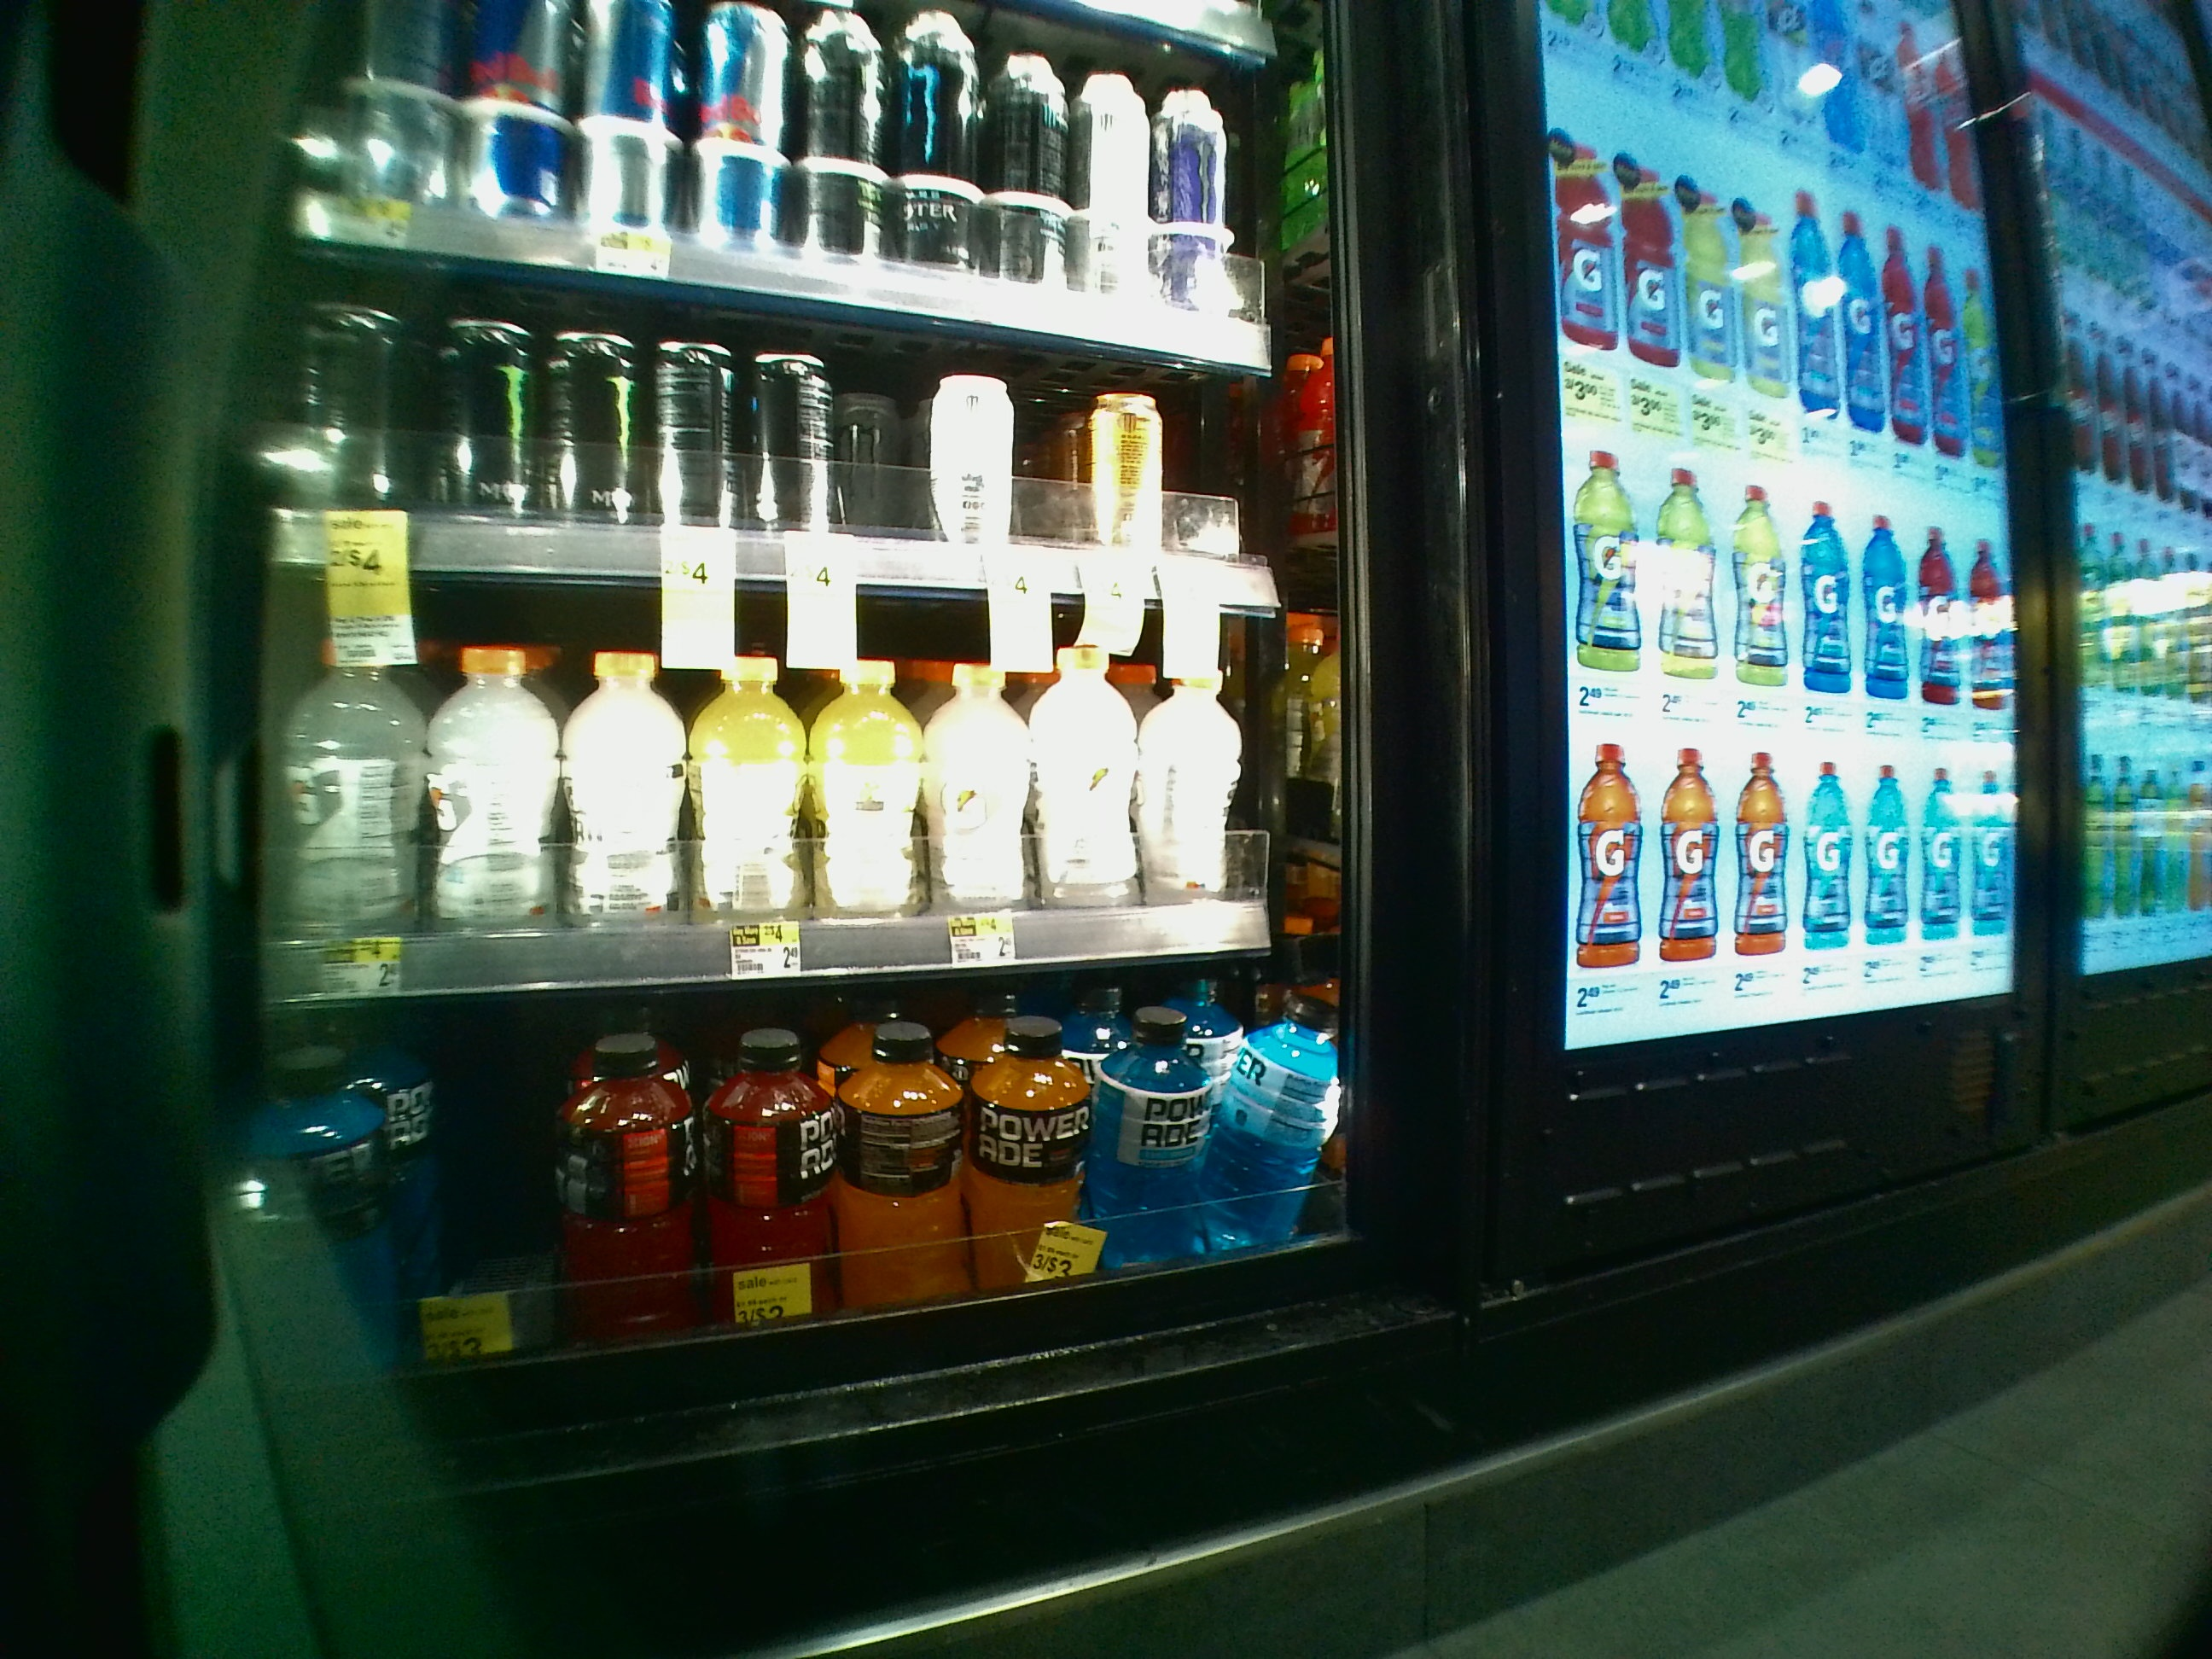shelf: (211, 547, 1360, 974), (214, 934, 1413, 1340)
